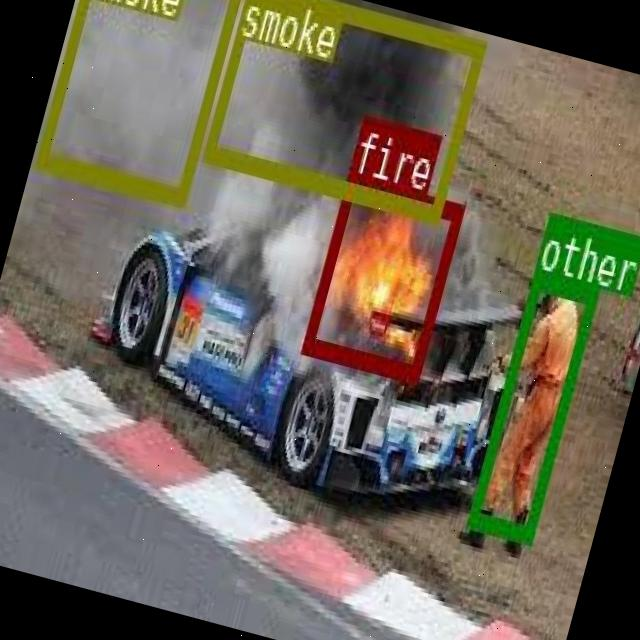fire: (300, 171, 463, 381)
smoke: (201, 0, 485, 219), (33, 0, 243, 203)
